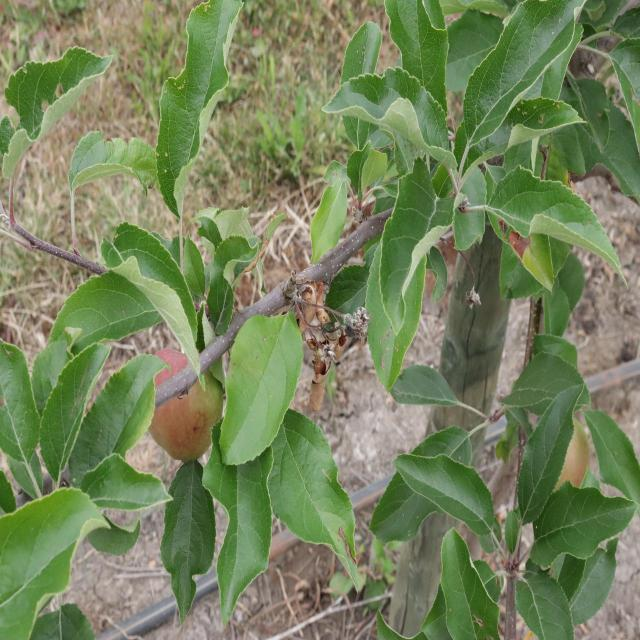-FireBlight-: (293, 284, 336, 412)
